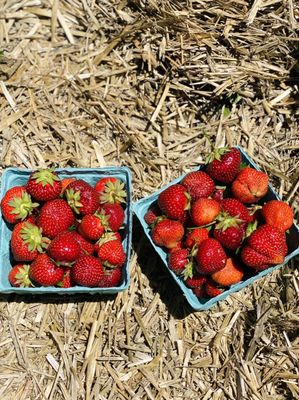sushi: (134, 149, 298, 311), (0, 166, 133, 297)
